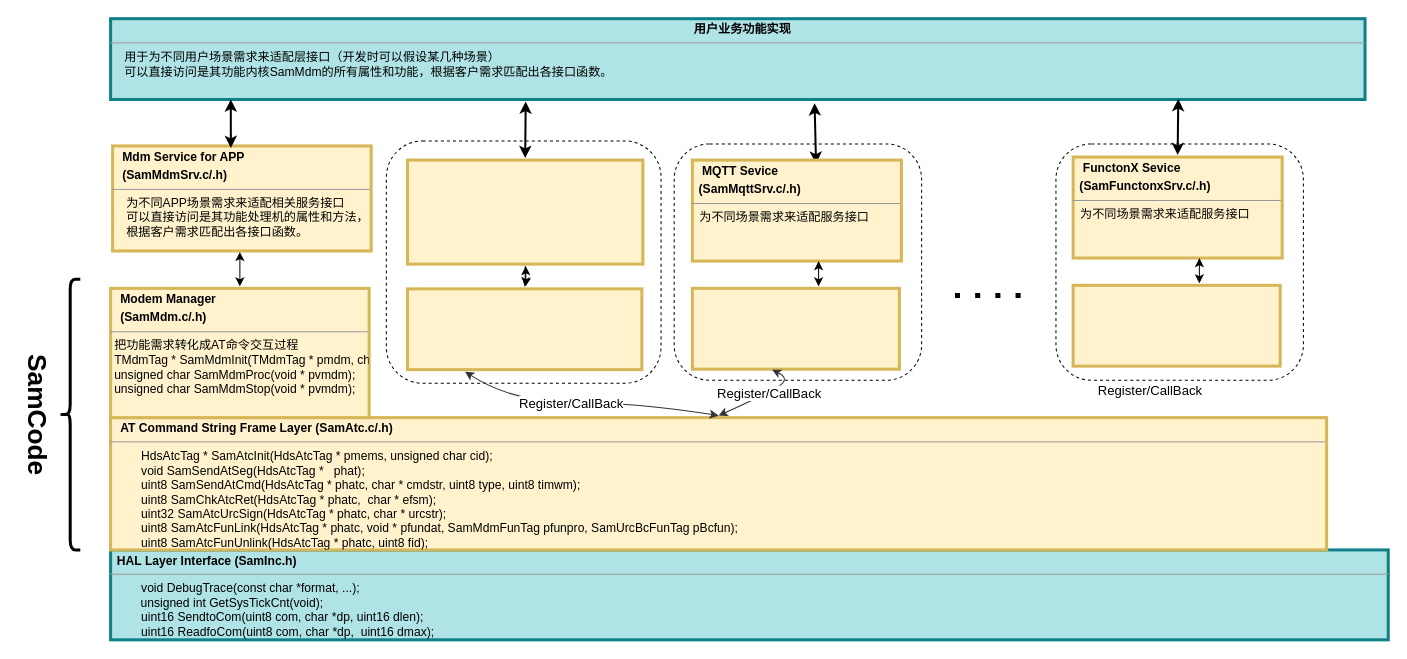
This 1407x659 diagram has some shape labels left out. The shapes that lost their labels are listed below. From the top down, each one's centre as x and y in pixels, then its label:
At (525,211): "Sockect Sevice for APP (SamSokectSrv.c/.h) 为不同用户场景需求来适配相关服务接口".
At (524,329): "TCPUDP Sockect Processor (SamSct.c/.h) 把功能需求转化成AT命令交互过程".
At (795,328): "MQTT Processor (SamMqtt.c/.h) 把功能需求转化成AT命令交互过程".
At (1176,325): "FunX Processor (SamFunX.c/.h) 把功能需求转化成AT命令交互过程".
